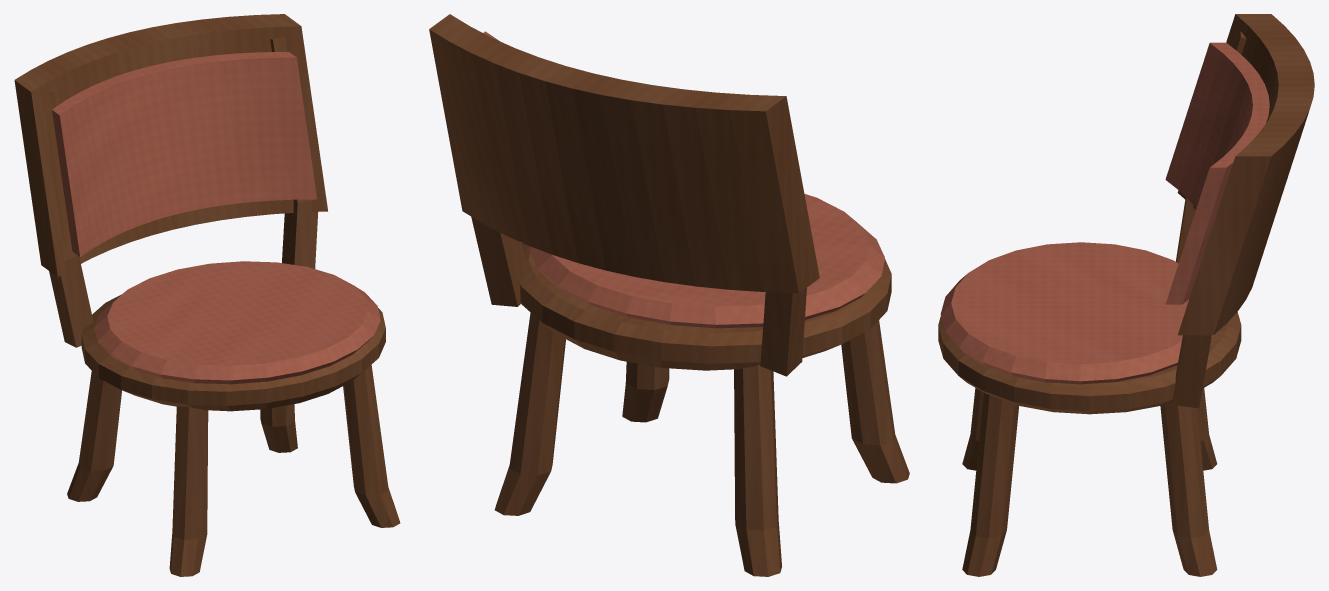
Rendered from AST-DIN-002.glb.
The picture shows the model from 3 angles, left to right: view 1: azimuth 30°, elevation 25°; view 2: azimuth 150°, elevation 25°; view 3: azimuth 270°, elevation 25°; orthographic projection. The views are drawn at different scales.
Parts seen in each view (by area): view 1: DIN_BackCushion, DIN_TailoredCushion, DIN_SweptBack, DIN_SeatShell, DIN_SplayedLeg_-1_-1, DIN_SplayedLeg_1_-1, DIN_SplayedLeg_-1_1, DIN_BackStile_-1, DIN_BackStile_1, DIN_SplayedLeg_1_1; view 2: DIN_SweptBack, DIN_TailoredCushion, DIN_SeatShell, DIN_SplayedLeg_-1_1, DIN_SplayedLeg_1_1, DIN_SplayedLeg_-1_-1, DIN_BackStile_-1, DIN_BackStile_1, DIN_SplayedLeg_1_-1; view 3: DIN_TailoredCushion, DIN_SweptBack, DIN_BackCushion, DIN_SeatShell, DIN_SplayedLeg_1_-1, DIN_SplayedLeg_1_1, DIN_BackStile_1, DIN_SplayedLeg_-1_-1, DIN_SplayedLeg_-1_1, DIN_BackStile_-1.
Boxes of the visible parts, <box> form: DIN_BackCushion: <box>52,52,316,256</box>; DIN_TailoredCushion: <box>95,261,380,384</box>; DIN_SweptBack: <box>14,14,327,276</box>; DIN_SeatShell: <box>81,295,385,411</box>; DIN_SplayedLeg_-1_-1: <box>169,406,208,576</box>; DIN_SplayedLeg_1_-1: <box>343,365,400,527</box>; DIN_SplayedLeg_-1_1: <box>67,371,121,501</box>; DIN_BackStile_-1: <box>43,92,93,347</box>; DIN_BackStile_1: <box>270,37,318,268</box>; DIN_SplayedLeg_1_1: <box>260,404,297,452</box>; DIN_SweptBack: <box>429,14,819,293</box>; DIN_TailoredCushion: <box>529,194,884,328</box>; DIN_SeatShell: <box>519,242,891,370</box>; DIN_SplayedLeg_-1_1: <box>734,365,781,576</box>; DIN_SplayedLeg_1_1: <box>494,312,565,515</box>; DIN_SplayedLeg_-1_-1: <box>841,320,909,483</box>; DIN_BackStile_-1: <box>760,288,806,376</box>; DIN_BackStile_1: <box>471,217,527,306</box>; DIN_SplayedLeg_1_-1: <box>622,361,669,422</box>; DIN_TailoredCushion: <box>940,242,1213,384</box>; DIN_SweptBack: <box>1177,14,1314,335</box>; DIN_BackCushion: <box>1165,42,1269,304</box>; DIN_SeatShell: <box>938,312,1241,414</box>; DIN_SplayedLeg_1_-1: <box>962,392,1018,576</box>; DIN_SplayedLeg_1_1: <box>1160,402,1217,576</box>; DIN_BackStile_1: <box>1173,335,1211,408</box>; DIN_SplayedLeg_-1_-1: <box>962,388,983,470</box>; DIN_SplayedLeg_-1_1: <box>1197,388,1217,470</box>; DIN_BackStile_-1: <box>1175,31,1246,263</box>.
Bounding box in the file's own units: 0.7 × 0.99 × 0.7825.
2 materials, 2 textured.
